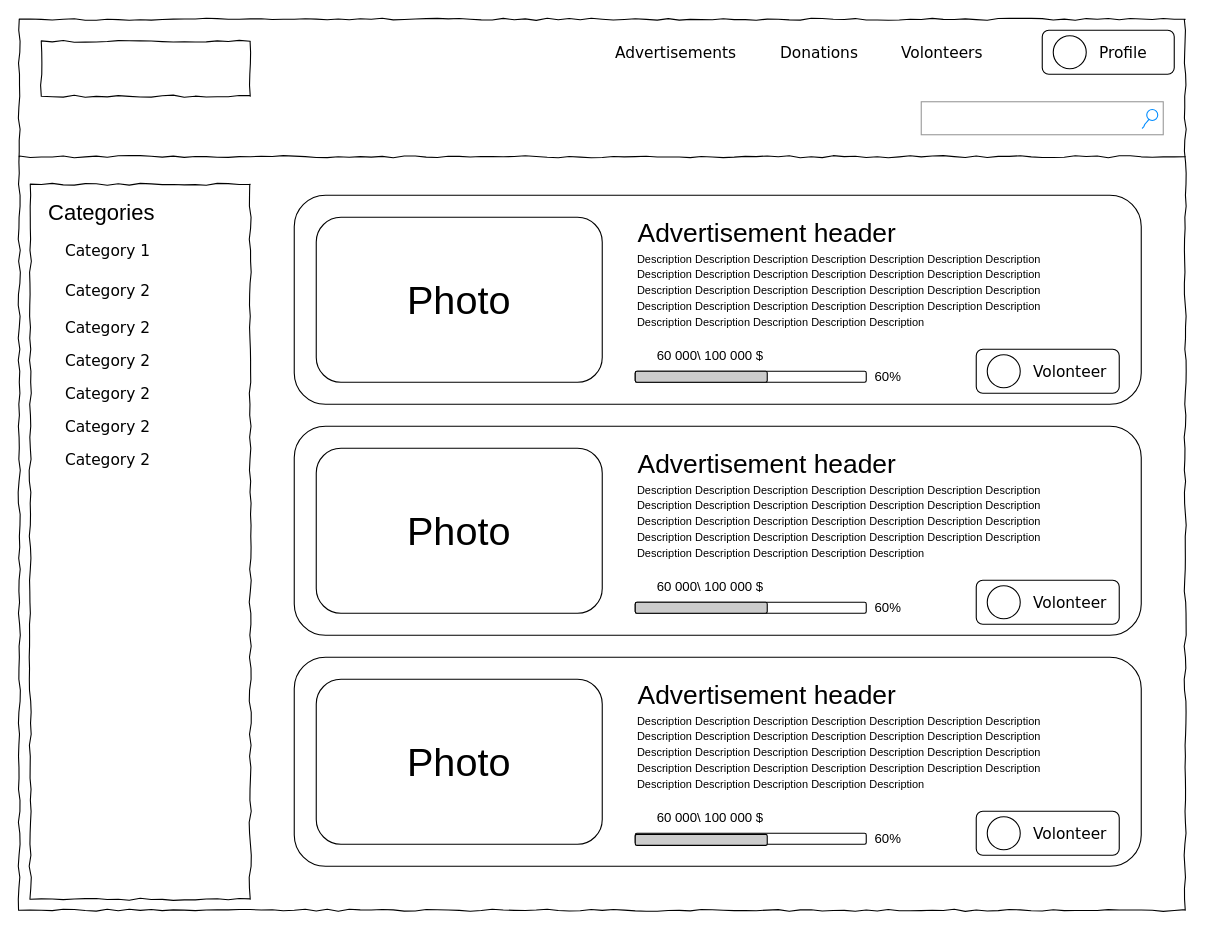
Image size: 1205x930. Some labels were removed from this diagram. Here are the shapes that lost their labels. From the top down, the centre of each, then its label:
At point (145, 68): "LOGO".
At point (1041, 118): "Search".
